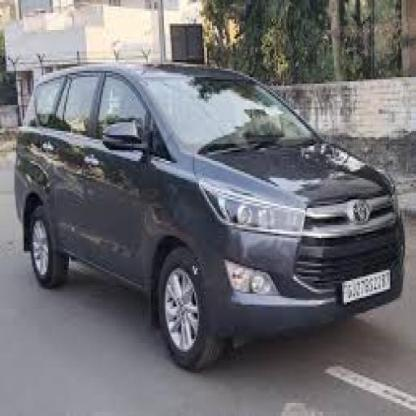car: (11, 53, 414, 376)
